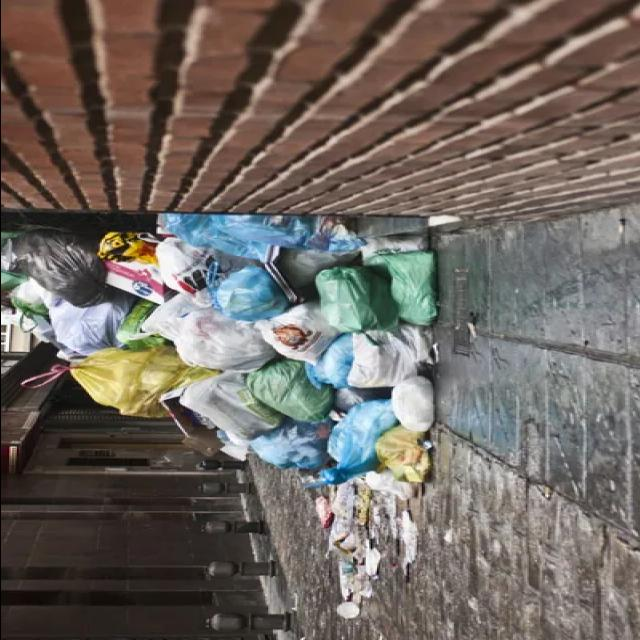garbage: (0, 217, 439, 458)
